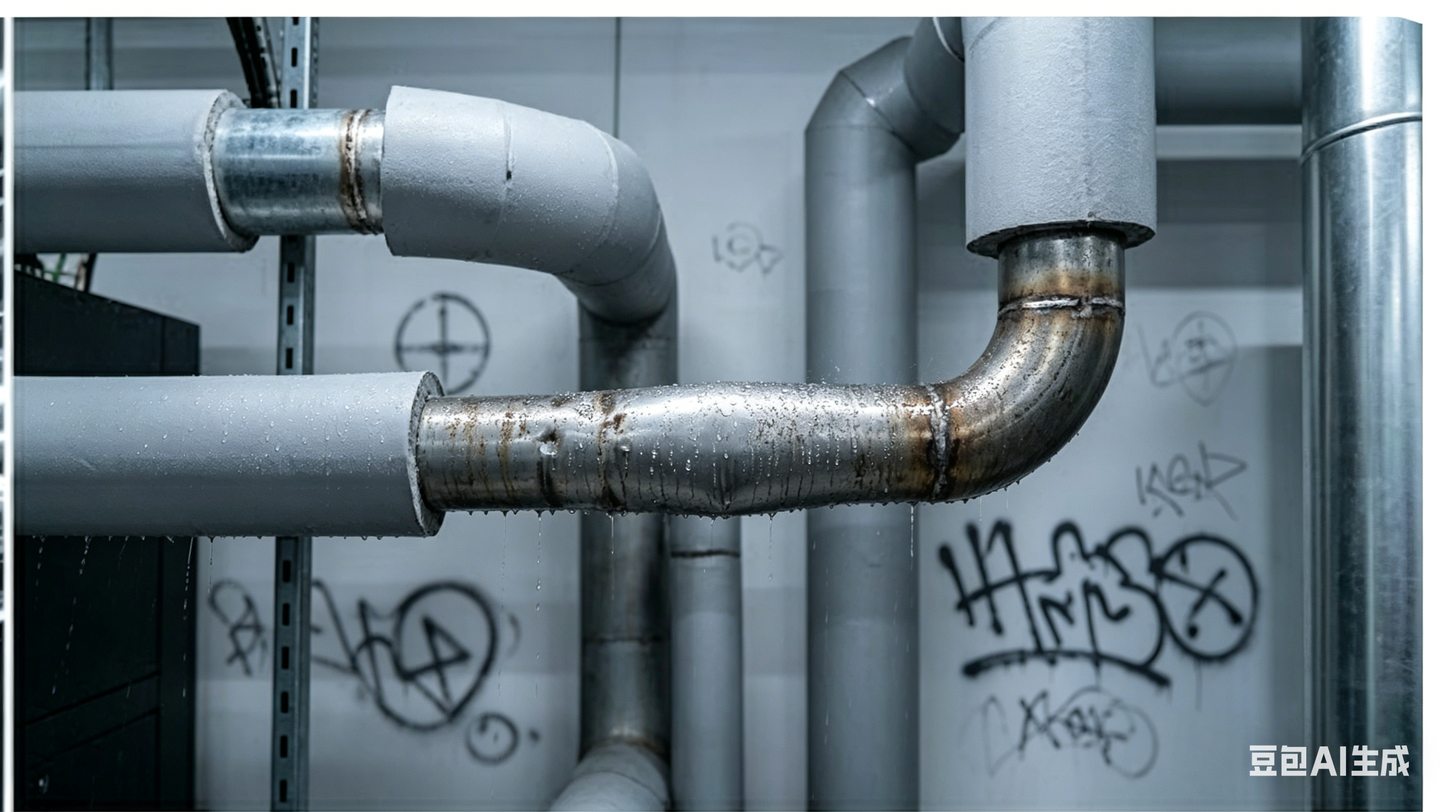Leakage: (521, 387, 649, 525)
